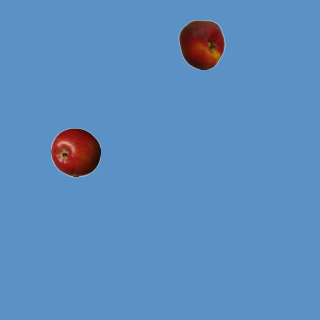Apple Braeburn: (50, 127, 100, 177)
Nectarine Flat: (176, 19, 226, 69)
